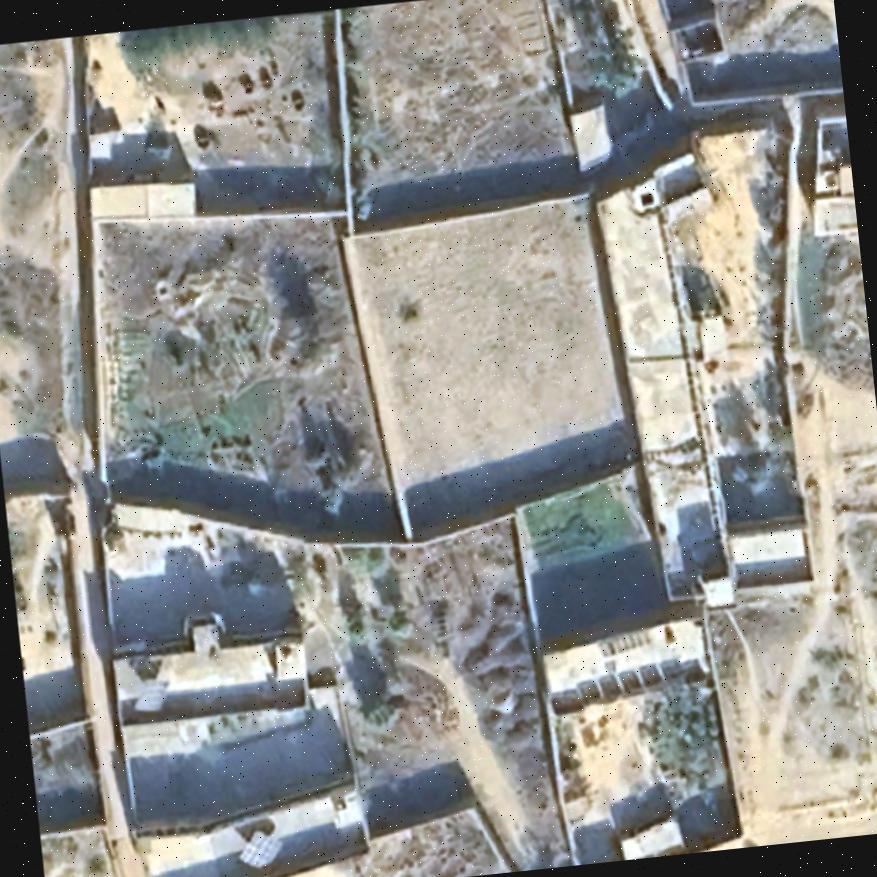Solarpanel: (235, 826, 283, 870), (130, 677, 170, 709)
